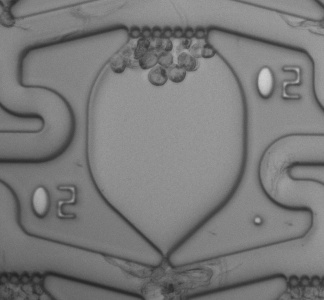AptNum: (247, 61, 309, 106)
Marker: (243, 206, 273, 233)
StNum: (24, 176, 86, 226)
Trap: (149, 253, 193, 298)
